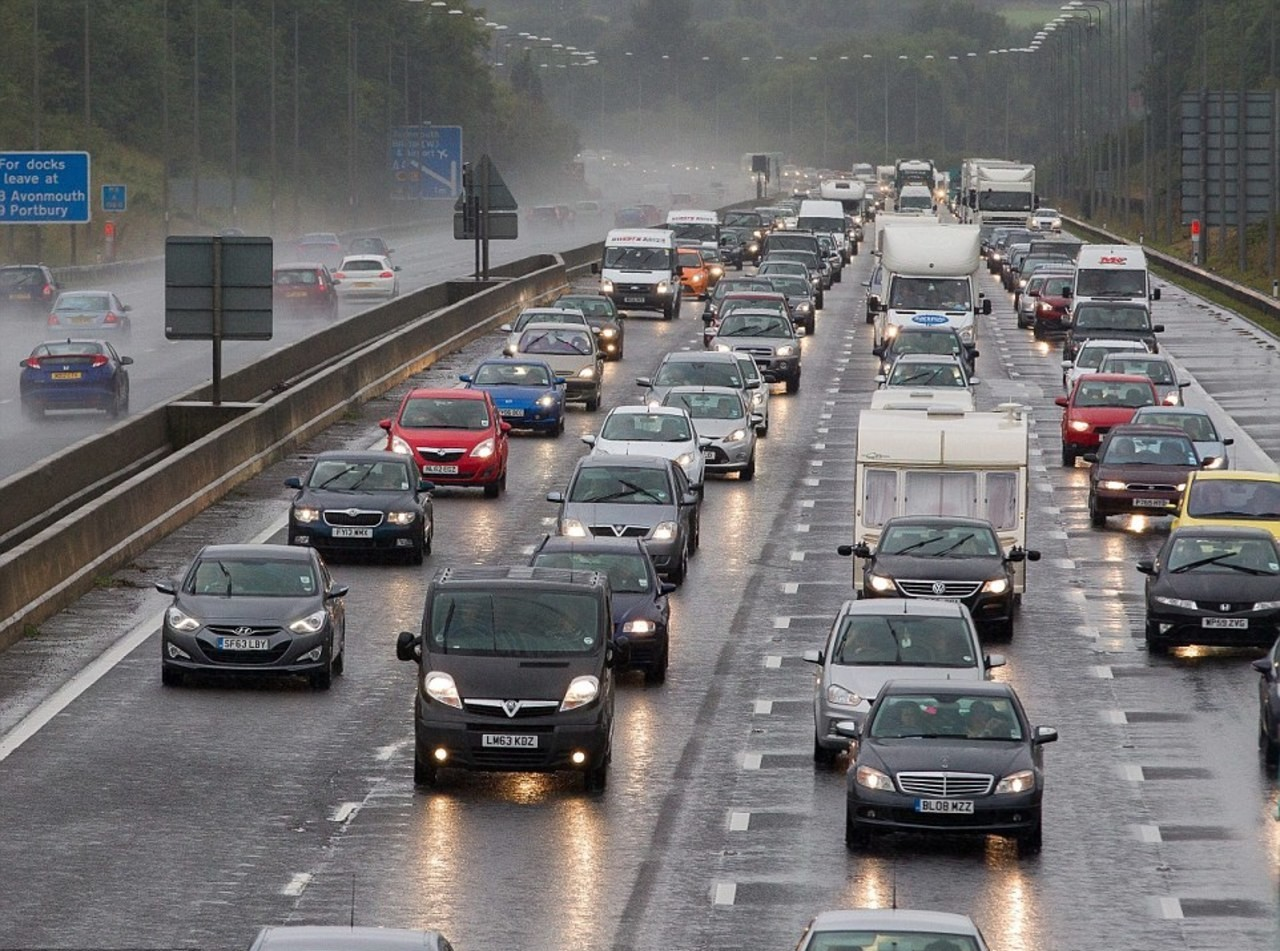car: (405, 568, 615, 798), (843, 679, 1049, 850), (813, 594, 995, 763), (161, 543, 348, 687), (857, 407, 1031, 549), (548, 453, 700, 592), (1138, 508, 1278, 657), (861, 516, 1028, 639), (533, 537, 672, 683), (281, 447, 439, 563), (377, 387, 510, 497), (1087, 422, 1211, 527), (588, 402, 713, 489), (17, 340, 131, 420), (458, 358, 567, 437), (711, 308, 805, 392), (667, 391, 751, 476), (1174, 466, 1270, 534), (45, 290, 132, 344), (1062, 300, 1154, 350), (1061, 375, 1136, 430), (1100, 352, 1179, 401), (269, 263, 333, 321), (872, 324, 972, 361), (1167, 410, 1235, 462), (560, 324, 603, 404), (643, 353, 741, 387), (876, 360, 971, 389), (335, 254, 396, 296), (738, 350, 764, 441), (665, 210, 723, 249), (588, 291, 622, 356), (496, 303, 582, 328), (1037, 274, 1071, 332), (701, 277, 770, 305), (890, 185, 940, 218), (763, 232, 815, 262), (678, 251, 709, 299), (523, 205, 567, 235), (783, 277, 816, 317), (819, 234, 843, 284), (291, 231, 340, 253), (717, 228, 744, 266), (346, 236, 392, 256), (1033, 207, 1064, 235), (1016, 278, 1036, 321), (988, 238, 1014, 271), (573, 196, 606, 219), (611, 207, 648, 227), (760, 266, 815, 279), (738, 228, 757, 262)
truck: (879, 226, 978, 343), (1077, 240, 1162, 328), (599, 229, 673, 325), (972, 164, 1034, 240), (823, 175, 864, 231)
